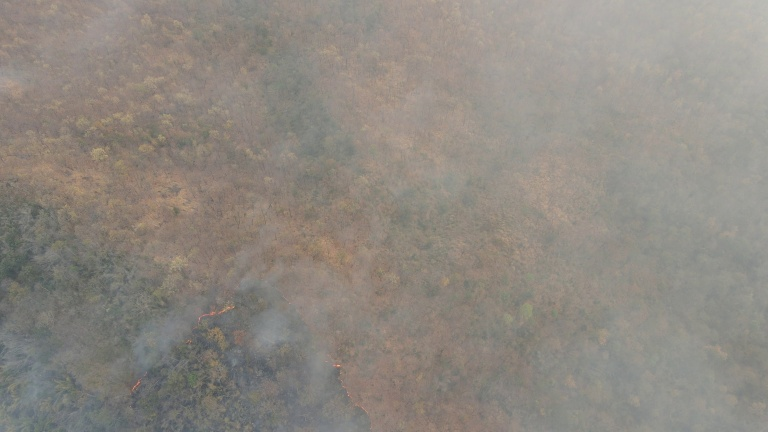fire: (324, 351, 372, 419), (191, 302, 242, 335), (122, 363, 150, 401)
smoke: (398, 1, 768, 432), (1, 247, 398, 432)
